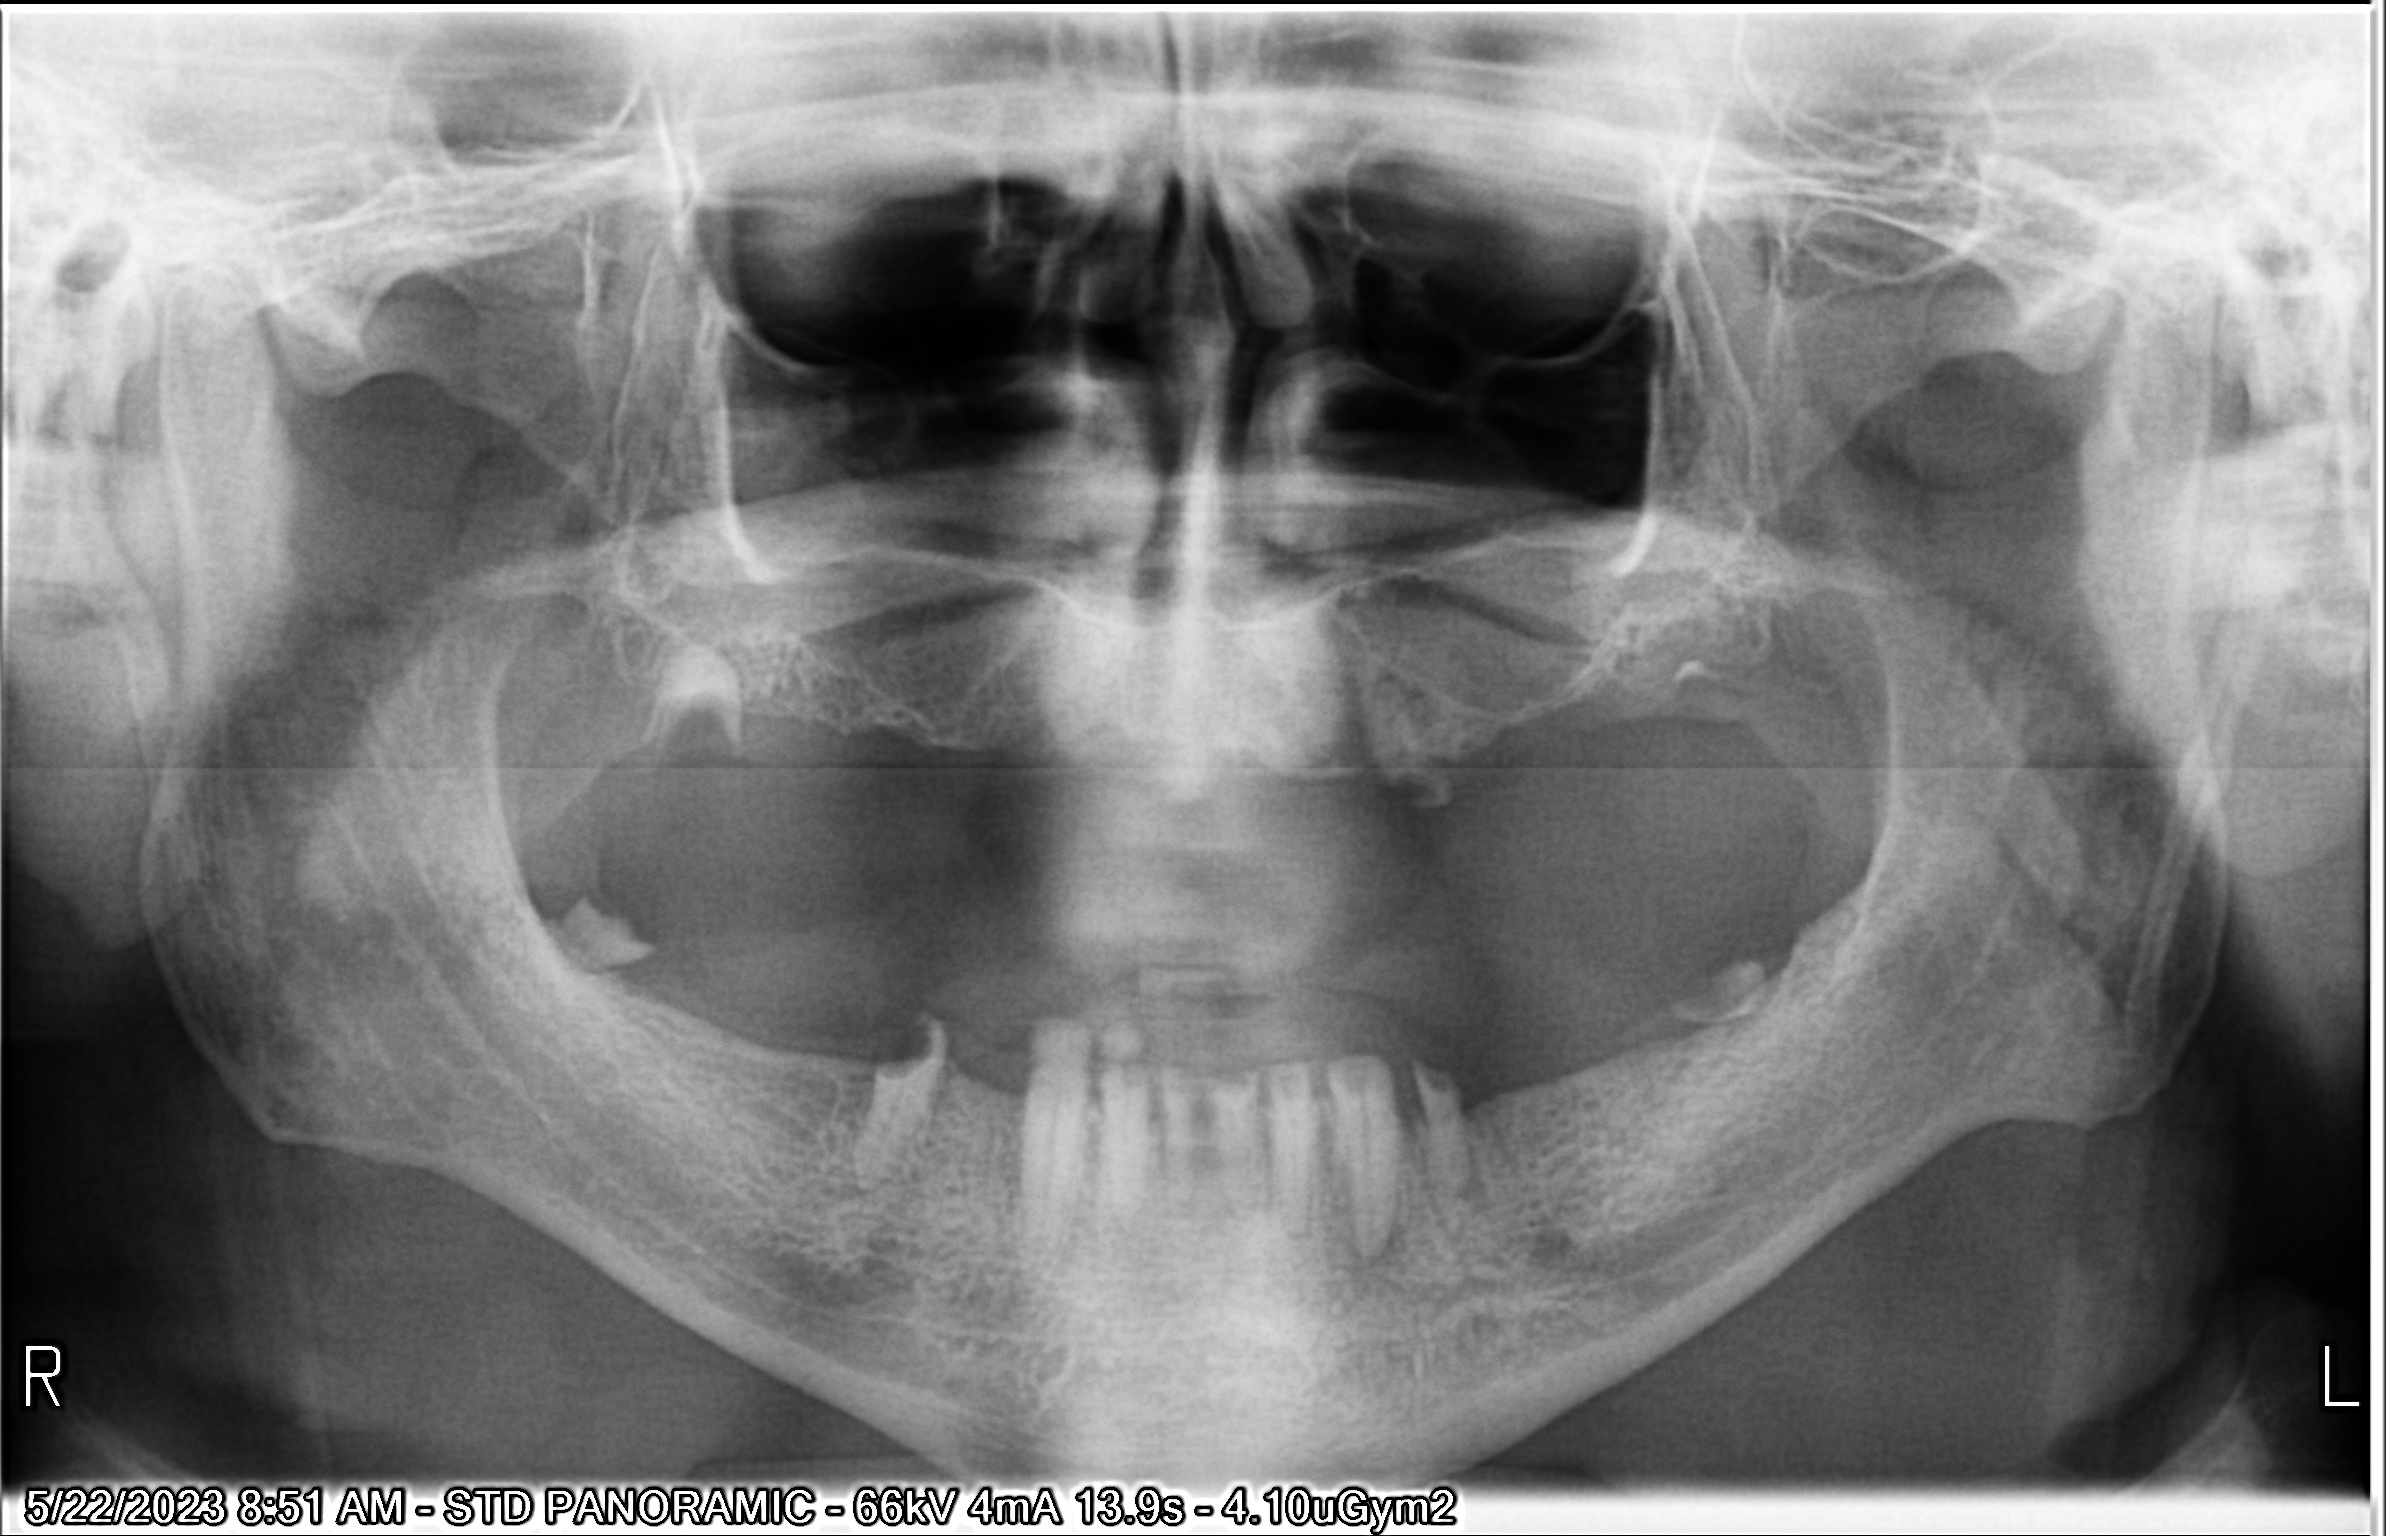API: (696, 551, 2200, 1536), (640, 576, 2050, 1536), (614, 576, 1930, 1536), (562, 572, 1765, 1536), (654, 306, 2083, 1023)
CAR: (558, 489, 1701, 1536), (539, 492, 1656, 1536), (485, 492, 1579, 1526)
ROT: (776, 390, 2386, 1456), (680, 440, 2155, 1536), (633, 417, 2033, 1536), (610, 452, 1923, 1536), (588, 447, 1838, 1536), (558, 466, 1753, 1536), (605, 231, 2078, 1075), (384, 417, 1343, 1536), (221, 398, 873, 1383), (243, 247, 1012, 1000)
